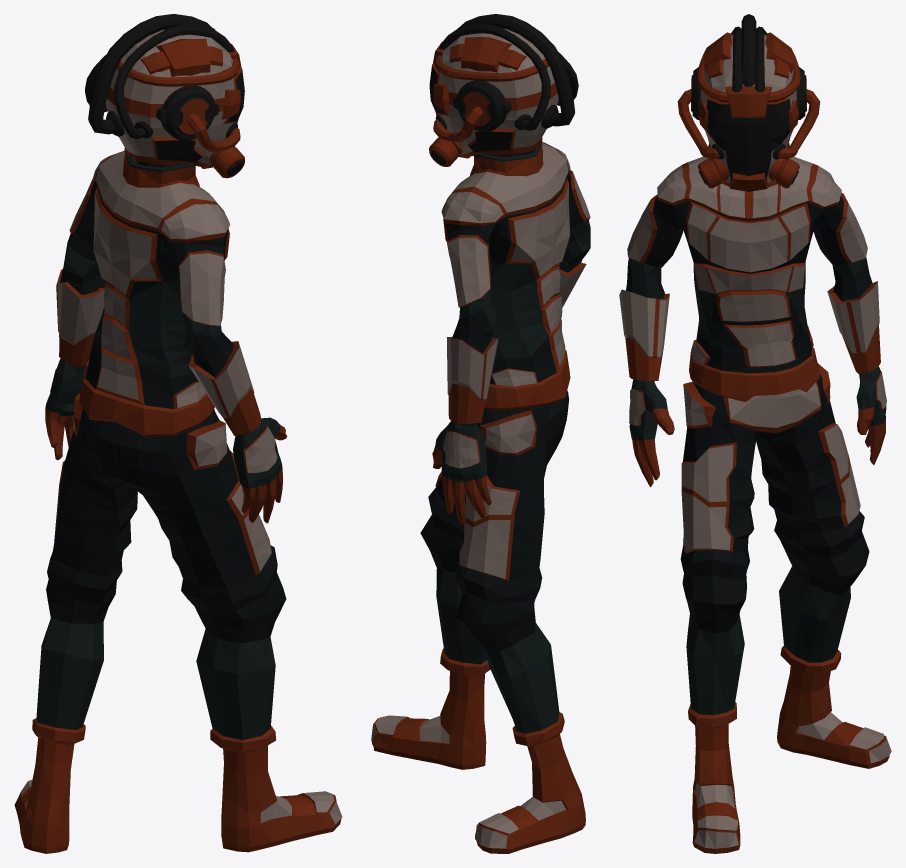
The model's file is EnemyTypeHuman.obj.
3 views of the same model, side by side, from view 1: azimuth 30°, elevation 25°; view 2: azimuth 150°, elevation 25°; view 3: azimuth 270°, elevation 25° (orthographic). The views are drawn at different scales.
Parts seen in each view (by area): view 1: EnemyTypeHuman_Human; view 2: EnemyTypeHuman_Human; view 3: EnemyTypeHuman_Human.
Part boxes in pixels (bbox=[...]): EnemyTypeHuman_Human: bbox=[14, 14, 342, 853]; EnemyTypeHuman_Human: bbox=[371, 14, 590, 853]; EnemyTypeHuman_Human: bbox=[619, 14, 891, 853].
Size of the model in its own units: 0.063 by 0.1858 by 0.0601.
